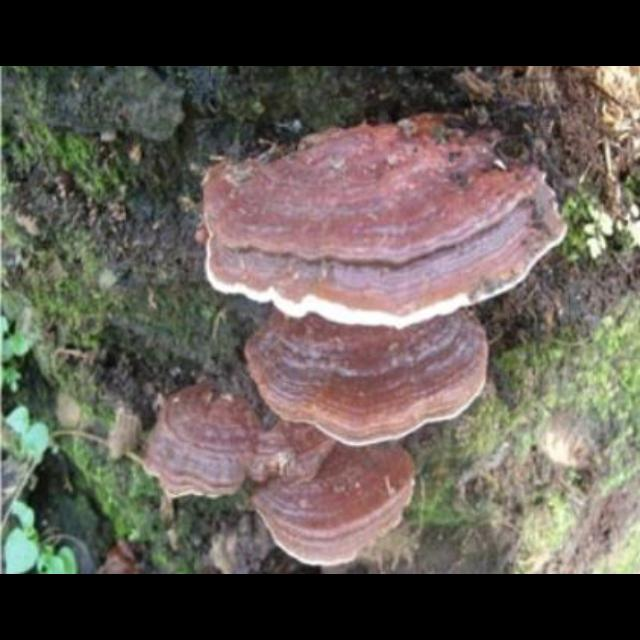ganoderma: (197, 110, 571, 334), (242, 332, 493, 451), (250, 444, 421, 572), (135, 384, 268, 503)
